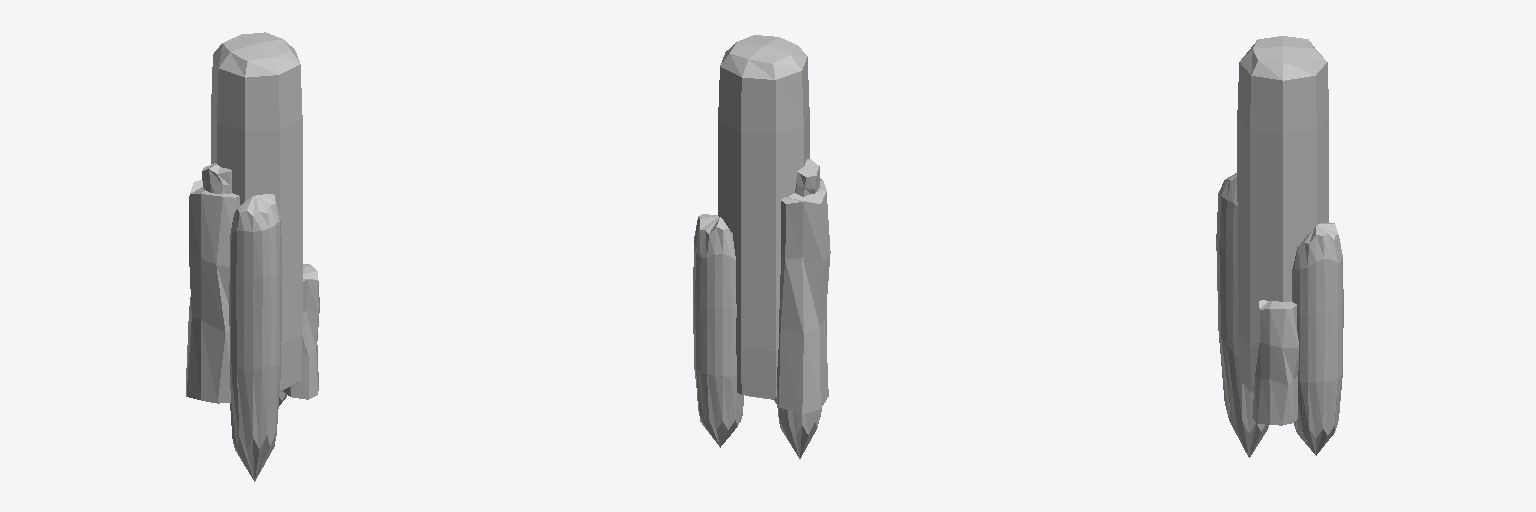
File: RockTower.obj
3 views of the same model, side by side, from view 1: azimuth 30°, elevation 25°; view 2: azimuth 150°, elevation 25°; view 3: azimuth 270°, elevation 25° (orthographic).
Parts seen in each view (by area): view 1: Cube, Cylinder.002, Cylinder.001, Cylinder.005, Cylinder.003; view 2: Cube, Cylinder.001, Cylinder.004, Cylinder.002, Cylinder.003; view 3: Cube, Cylinder.004, Cylinder.002, Cylinder.005.
Boxes of the visible parts, <box> form: Cube: <box>211,32,302,391</box>; Cylinder.002: <box>229,194,281,481</box>; Cylinder.001: <box>186,180,239,403</box>; Cylinder.005: <box>283,264,319,399</box>; Cylinder.003: <box>202,163,231,193</box>; Cube: <box>718,35,809,399</box>; Cylinder.001: <box>773,180,830,414</box>; Cylinder.004: <box>693,214,743,447</box>; Cylinder.002: <box>777,178,826,458</box>; Cylinder.003: <box>795,159,819,196</box>; Cube: <box>1237,36,1328,393</box>; Cylinder.004: <box>1292,222,1343,455</box>; Cylinder.002: <box>1216,173,1268,457</box>; Cylinder.005: <box>1252,300,1298,425</box>.
Bounding box in the file's own units: 2.11 × 6.95 × 1.9.